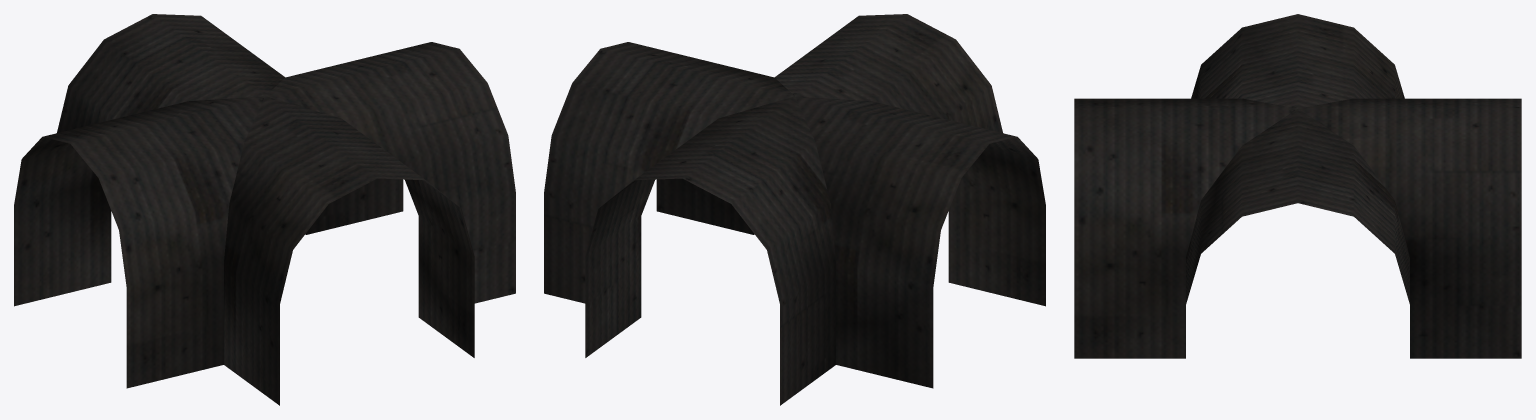
Rendered from tunnel_1_002.fbx.
The picture shows the model from 3 angles, left to right: view 1: azimuth 30°, elevation 25°; view 2: azimuth 150°, elevation 25°; view 3: azimuth 270°, elevation 25°; orthographic projection.
Parts seen in each view (by area): view 1: tunnel_1.002; view 2: tunnel_1.002; view 3: tunnel_1.002.
Boxes of the visible parts, x1,y1,x2,y2 form: tunnel_1.002: [14, 14, 515, 405]; tunnel_1.002: [544, 14, 1045, 405]; tunnel_1.002: [1074, 14, 1521, 358].
Bounding box in the file's own units: 400 × 200 × 400.
